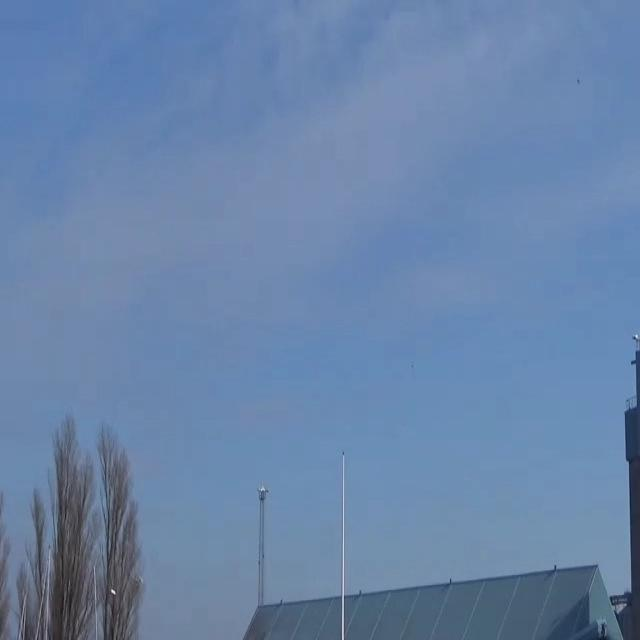bird: (410, 361, 416, 370)
